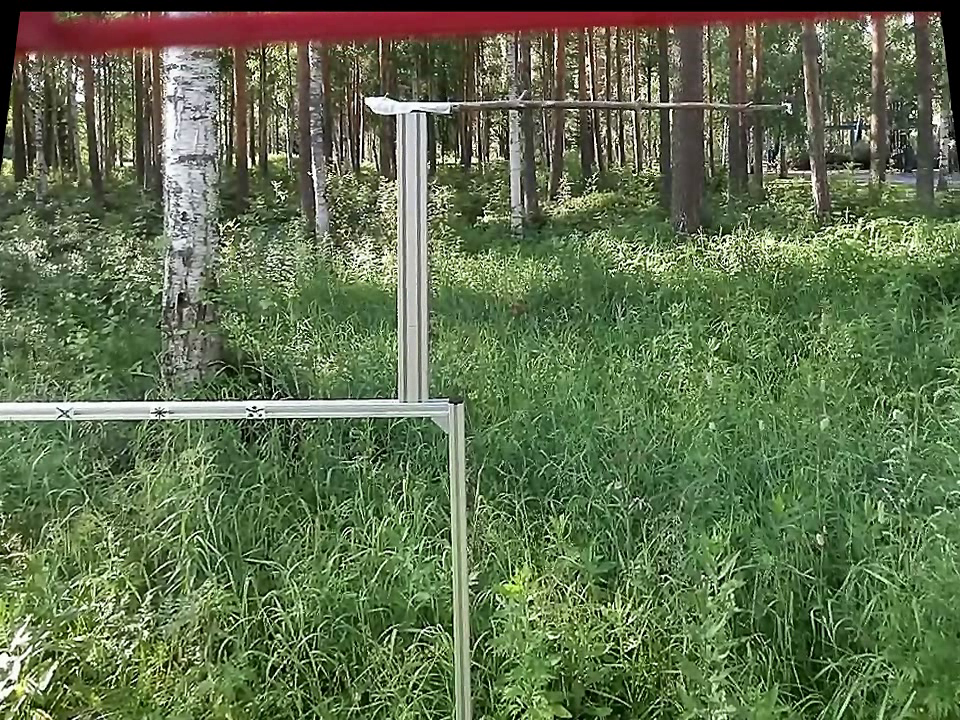aluminum_frame: (0, 394, 450, 424), (391, 113, 433, 401), (444, 397, 478, 715)
branch: (455, 91, 779, 123)
